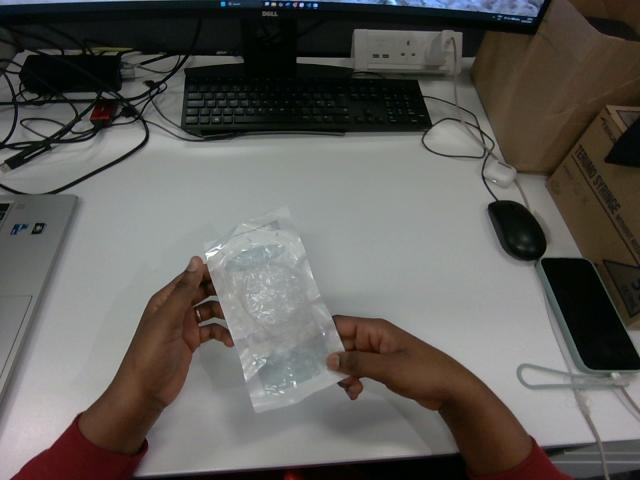gallipot: (206, 207, 343, 411)
